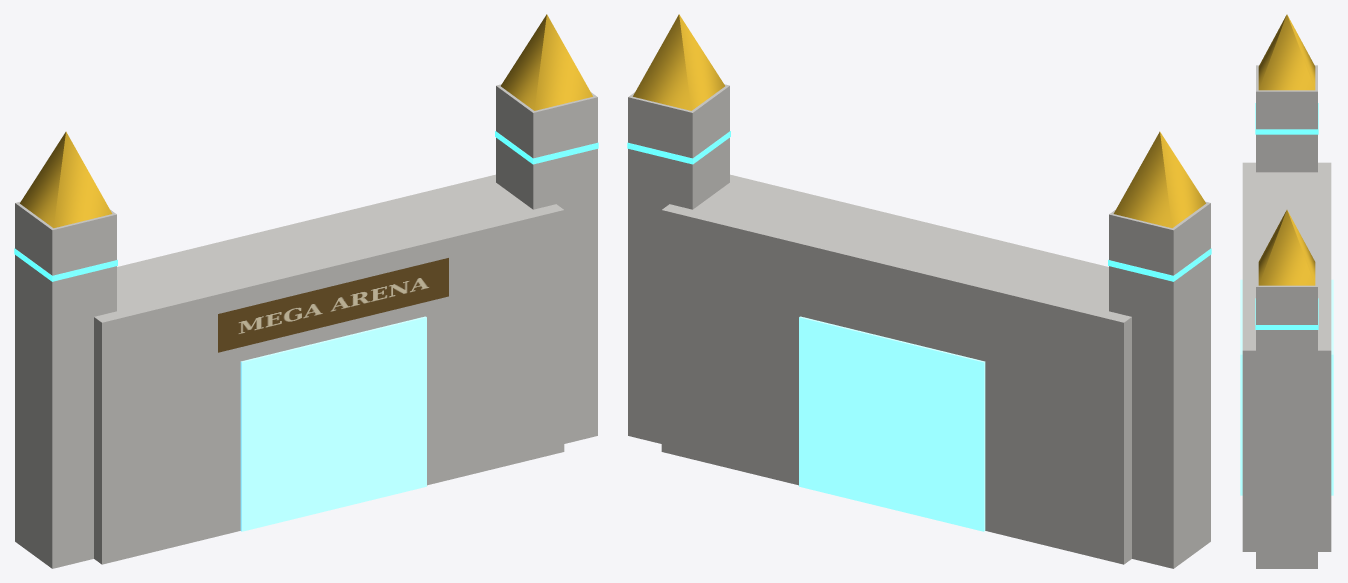
The model's file is mega_arena_gate.glb.
3 renders of one model, left to right at view 1: azimuth 30°, elevation 25°; view 2: azimuth 150°, elevation 25°; view 3: azimuth 270°, elevation 25°, orthographic. The views are drawn at different scales.
Visible parts, largest first — view 1: mega_arena_gate; view 2: mega_arena_gate; view 3: mega_arena_gate.
Boxes of the visible parts, x1,y1,x2,y2 form: mega_arena_gate: (14,14,598,568); mega_arena_gate: (627,14,1211,568); mega_arena_gate: (1240,14,1333,568).
Size of the model in its own units: 11.82 by 8.6 by 2.1.
Materials: 5 (1 with a texture image).
